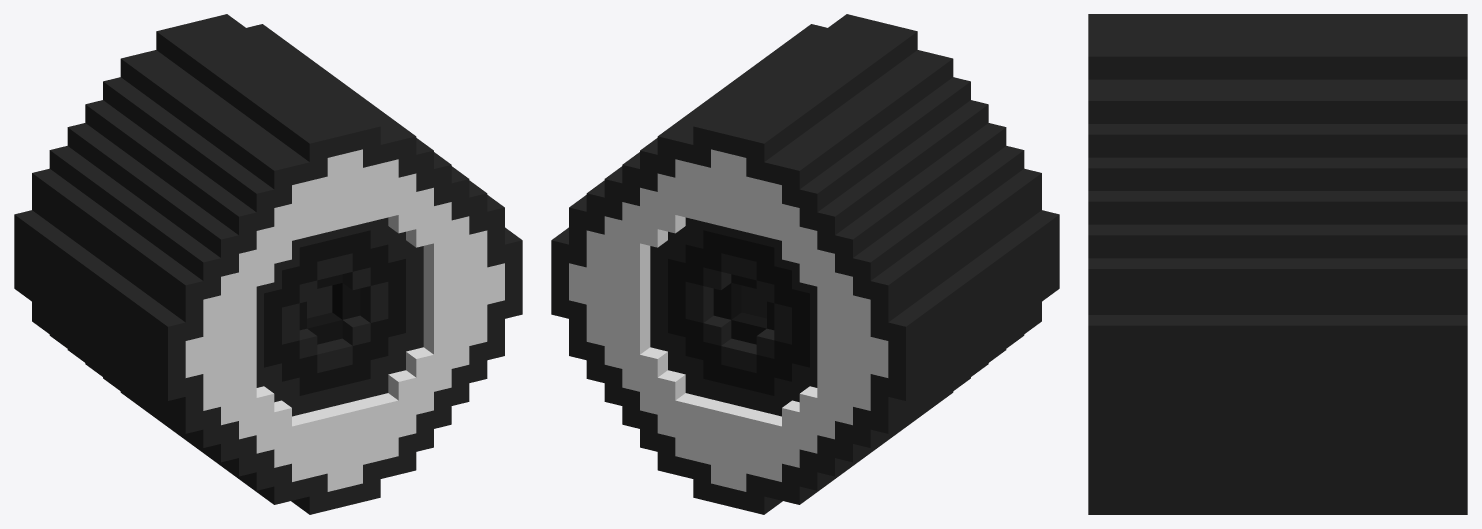
Rendered from wheel.obj.
The picture shows the model from 3 angles, left to right: view 1: azimuth 30°, elevation 25°; view 2: azimuth 150°, elevation 25°; view 3: azimuth 270°, elevation 25°; orthographic projection. The views are drawn at different scales.
Size of the model in its own units: 2 by 2 by 1.5.
